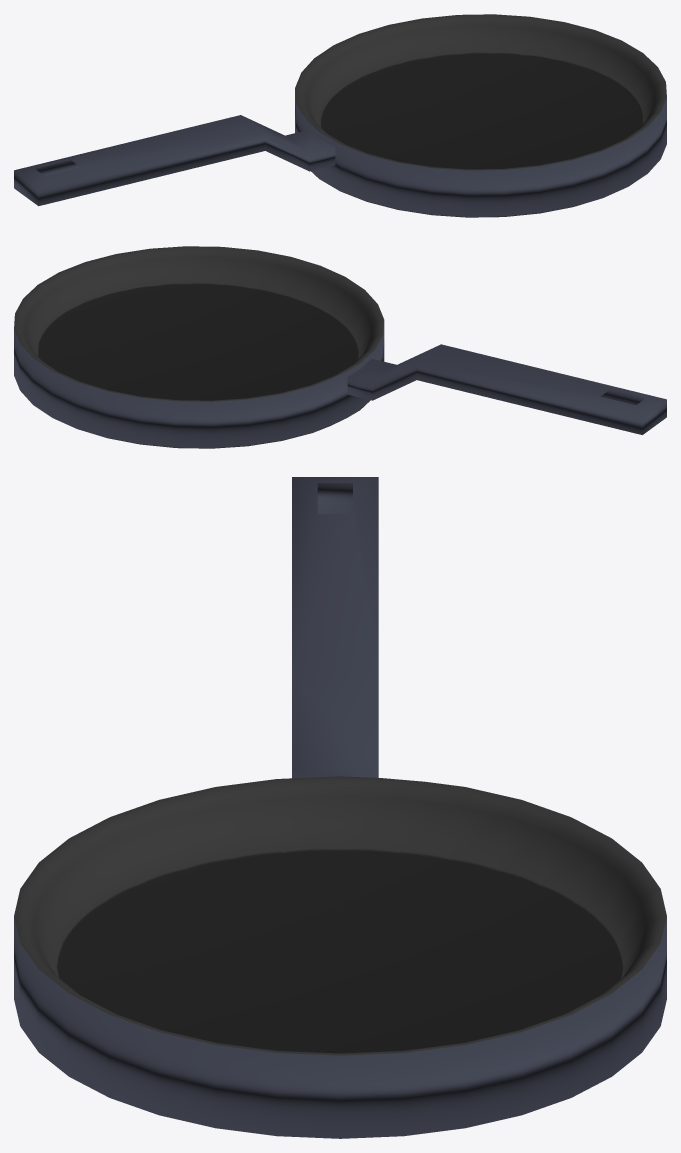
The model's file is Frying pan model.fbx.
3 renders of one model, top to bottom at view 1: azimuth 30°, elevation 25°; view 2: azimuth 150°, elevation 25°; view 3: azimuth 270°, elevation 25°, orthographic. The views are drawn at different scales.
Visible parts, largest first — view 1: Cylinder; view 2: Cylinder; view 3: Cylinder.
Part boxes in pixels (bbox=[...]): Cylinder: bbox=[14, 14, 666, 217]; Cylinder: bbox=[14, 246, 666, 448]; Cylinder: bbox=[14, 477, 666, 1138].
Bounding box in the file's own units: 413 × 48.55 × 214.
Materials: 2 (2 with a texture image).
